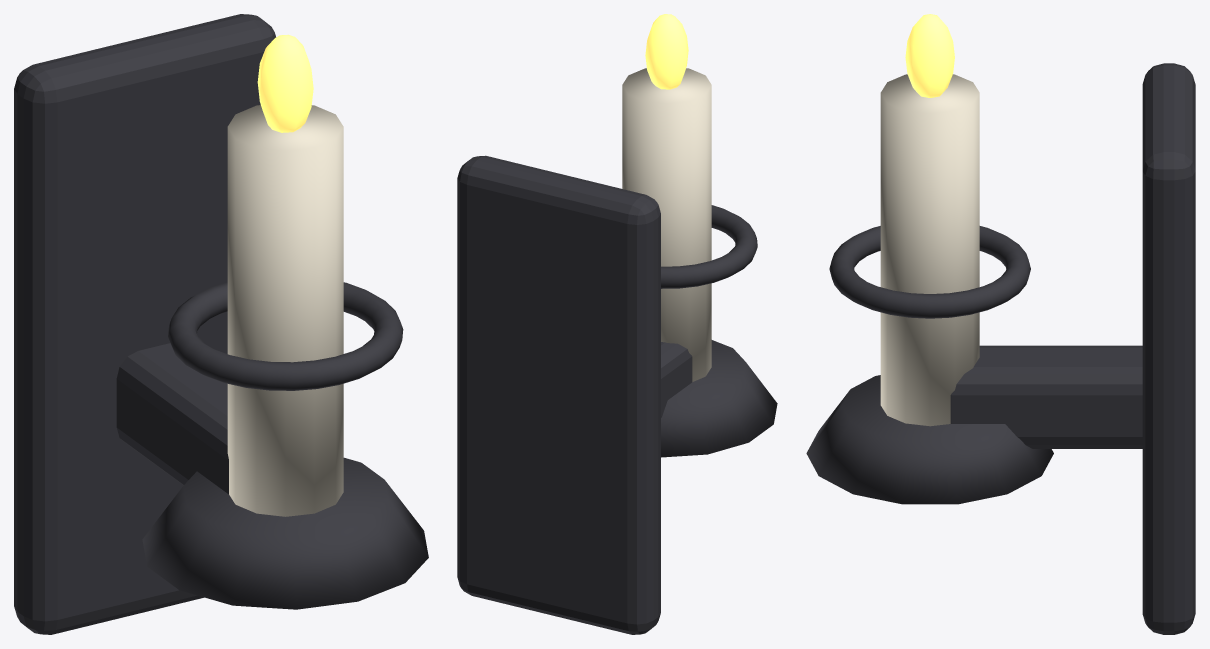
The model's file is wall_sconce.glb.
The picture shows the model from 3 angles, left to right: view 1: azimuth 30°, elevation 25°; view 2: azimuth 150°, elevation 25°; view 3: azimuth 270°, elevation 25°; orthographic projection. The views are drawn at different scales.
Parts seen in each view (by area): view 1: GD_wall_sconce; view 2: GD_wall_sconce; view 3: GD_wall_sconce.
Part boxes in pixels (x1,y1,x2,y2): GD_wall_sconce: [14, 14, 428, 634]; GD_wall_sconce: [457, 14, 777, 634]; GD_wall_sconce: [806, 14, 1195, 634].
Size of the model in its own units: 0.14 by 0.3586 by 0.22.
